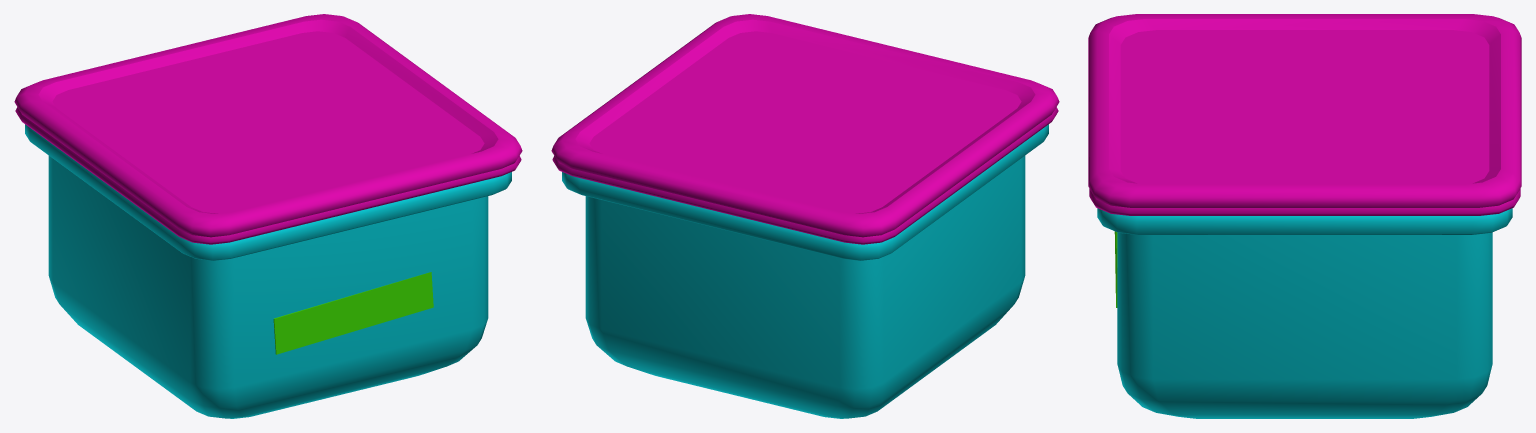
Rendered from PlasticContainer.fbx.
3 renders of one model, left to right at view 1: azimuth 30°, elevation 25°; view 2: azimuth 150°, elevation 25°; view 3: azimuth 270°, elevation 25°, orthographic. The views are drawn at different scales.
Parts seen in each view (by area): view 1: PlasticContainer; view 2: PlasticContainer; view 3: PlasticContainer.
Boxes of the visible parts, <box> form: PlasticContainer: <box>14,14,522,418</box>; PlasticContainer: <box>551,14,1059,418</box>; PlasticContainer: <box>1088,14,1521,418</box>.
Bounding box in the file's own units: 400 × 265 × 400.
